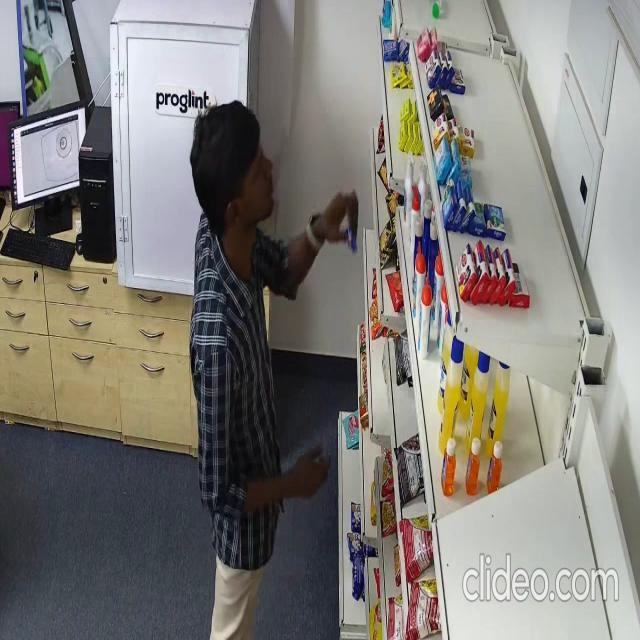normal: (189, 93, 359, 640)
